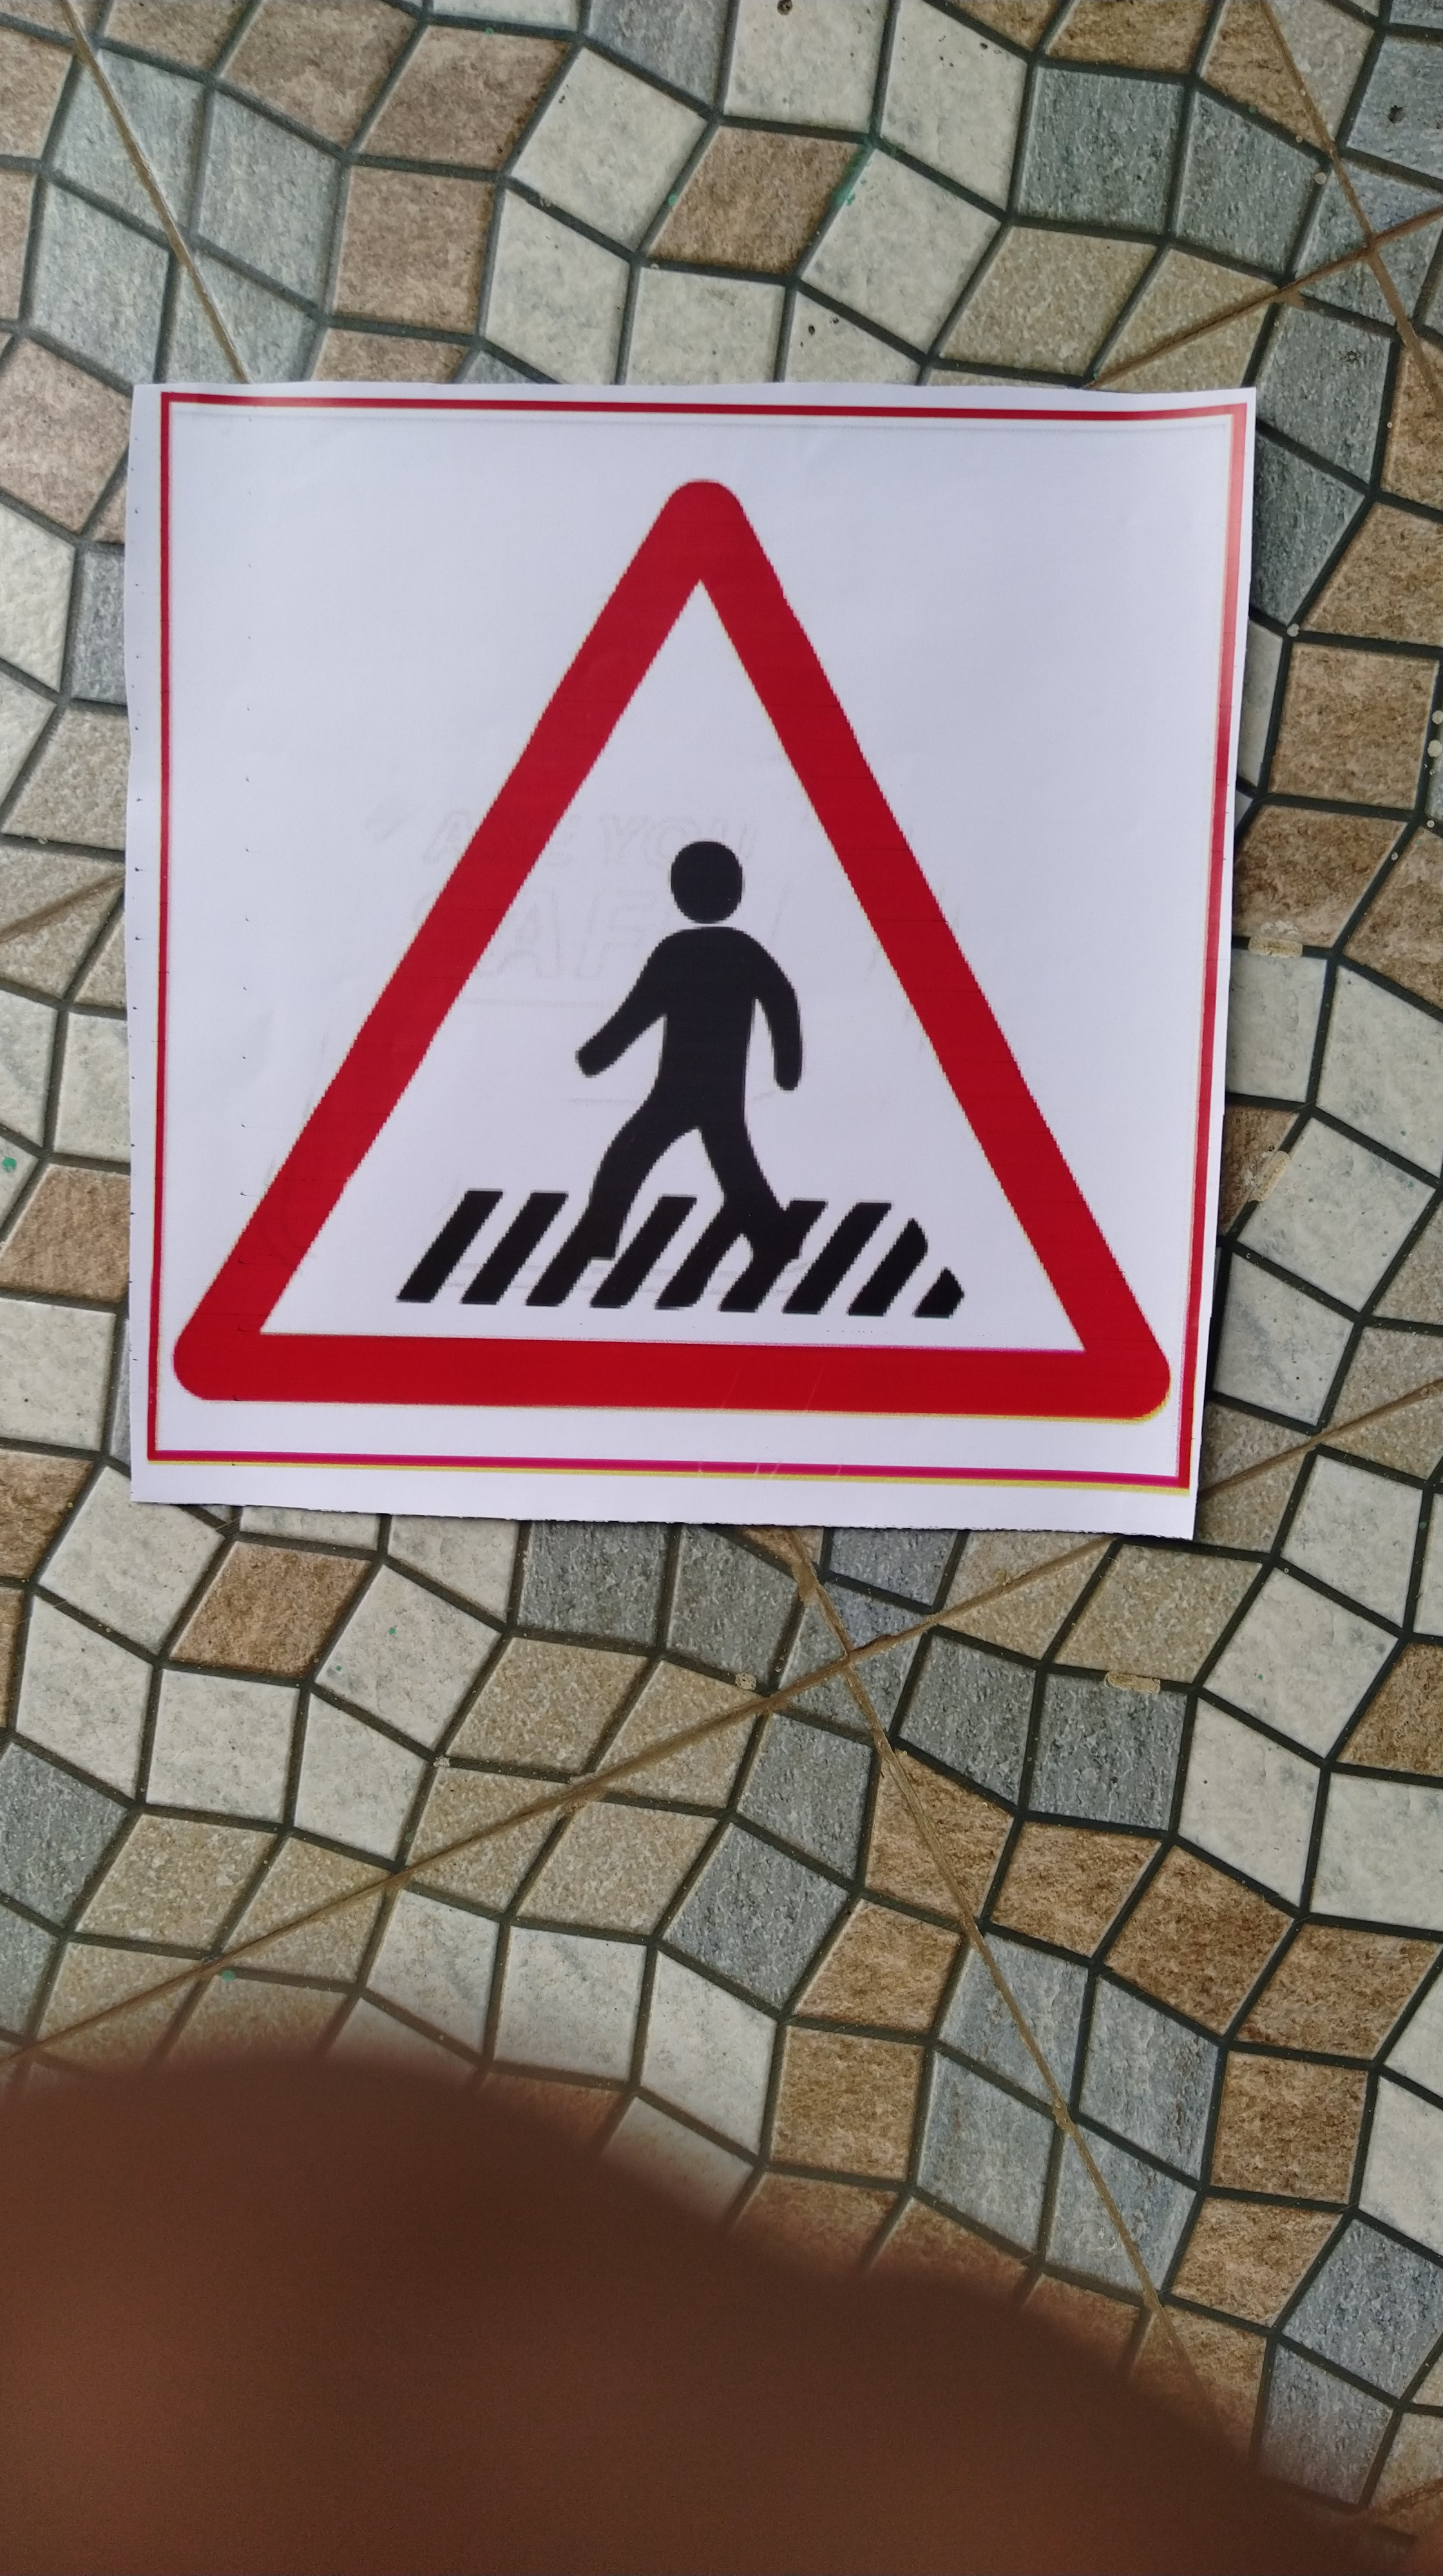pedestrain crossing: (170, 448, 1169, 1468)
